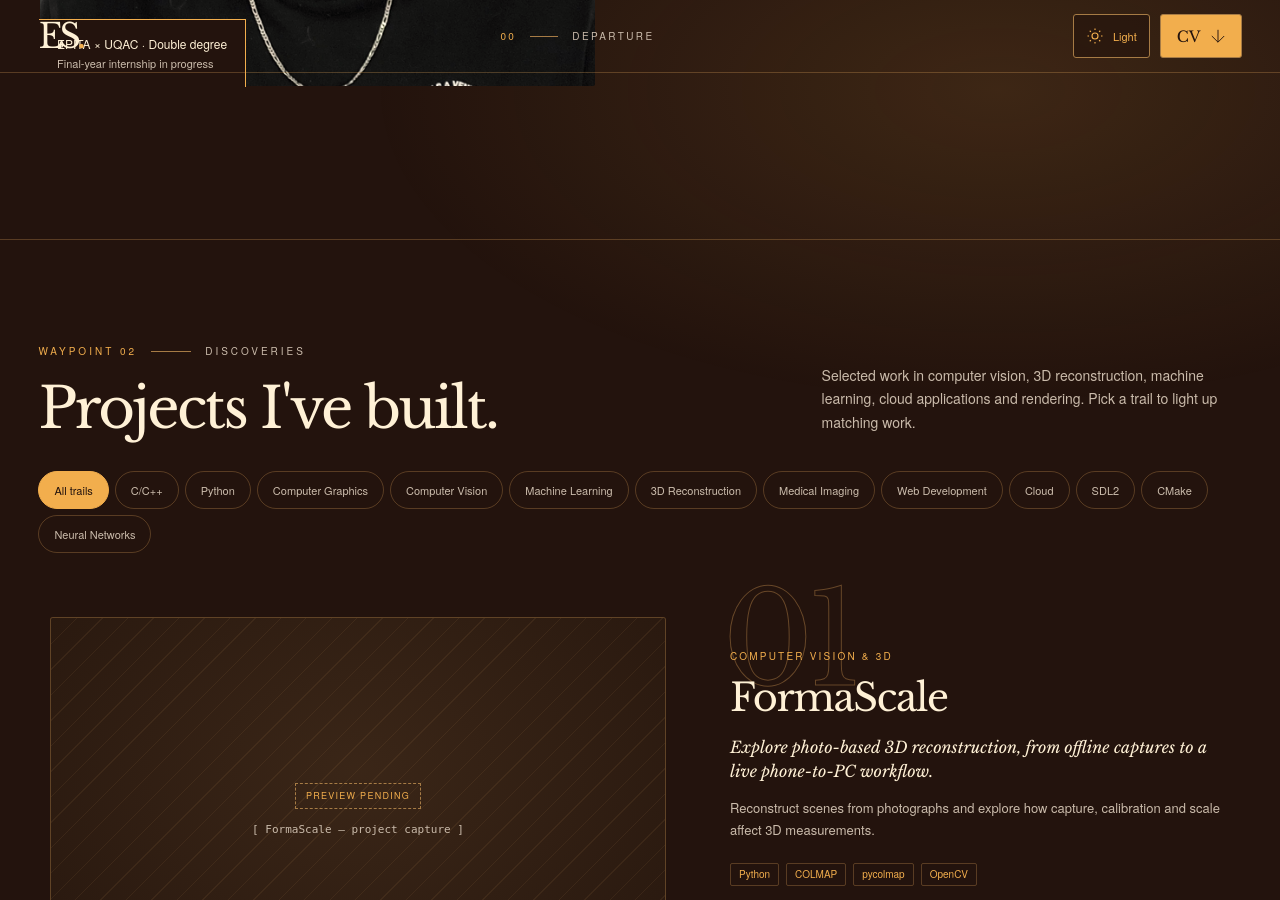
a trail filter sorts matching projects first and dims the others
Later steps or results of the test are not shown.
(page scrolled)
Click the button "Computer Graphics" at (320, 490), box [257,471,384,509]
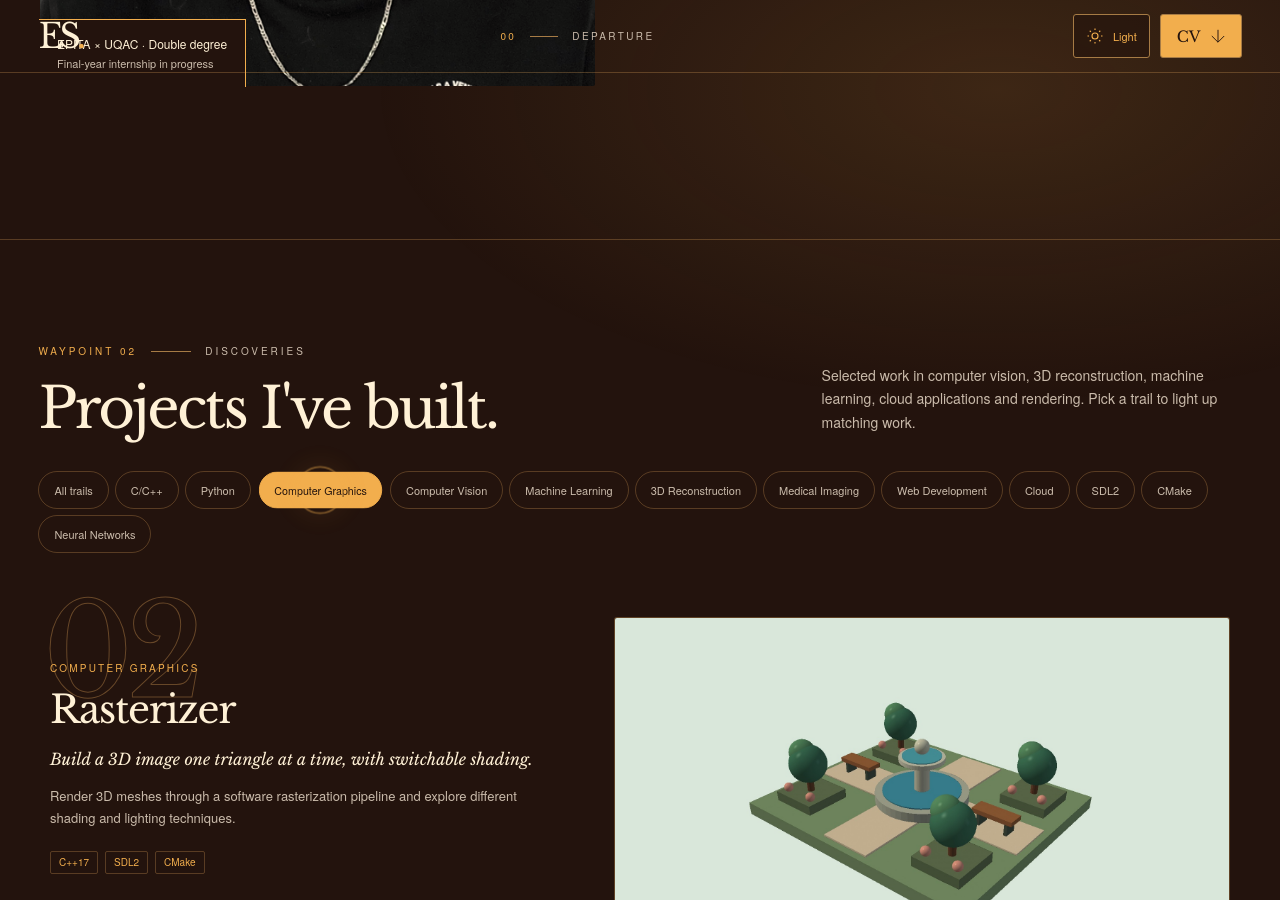
expect the button "Computer Graphics" is pressed: met, box [257,471,384,509]
